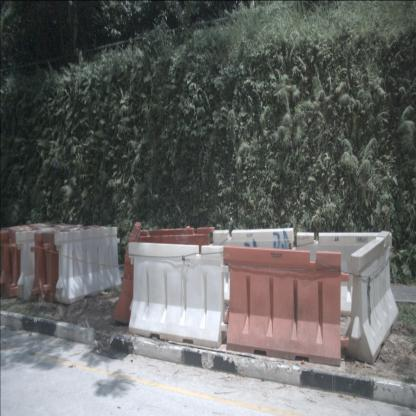movable_object-barrier: (224, 246, 350, 366), (128, 242, 229, 349), (296, 232, 392, 317), (343, 236, 399, 364), (213, 228, 296, 305), (138, 227, 214, 303), (31, 228, 103, 302), (17, 225, 87, 301), (54, 227, 122, 304), (42, 233, 109, 303), (8, 224, 66, 288), (113, 222, 141, 324)
movable_object-trafficcone: (0, 223, 48, 298)
